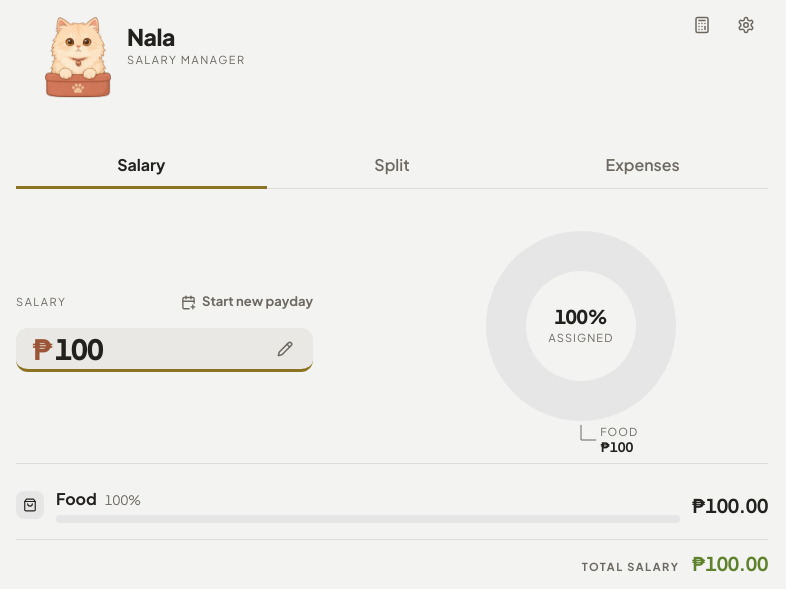
Test: expense tracking in App › shows the amount over budget when expenses exceed salary
The width and height of the screenshot is (786, 589).
Click the tab "Expenses" at [643, 167], box [517,145,768,189]
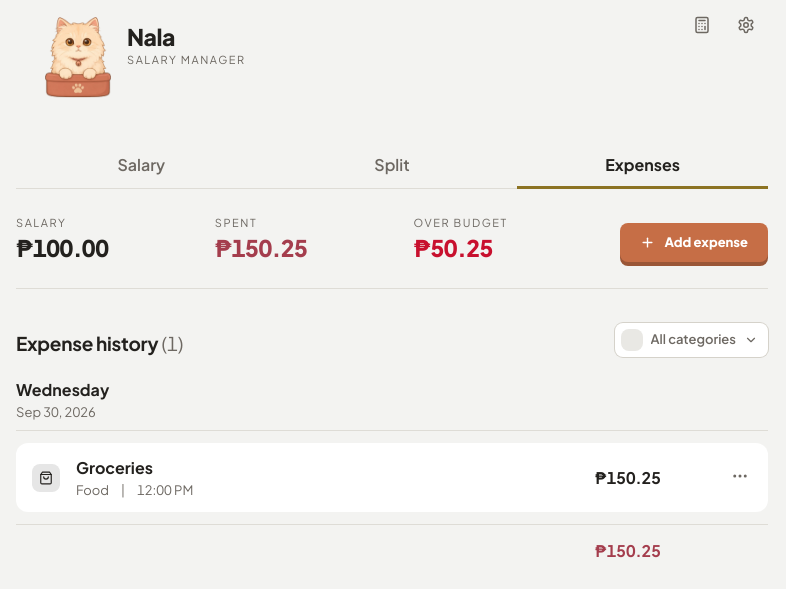
Now the text "Groceries" is shown, box [76,457,153,478]
Now the text "₱50.25" is shown, box [414,233,493,262]
